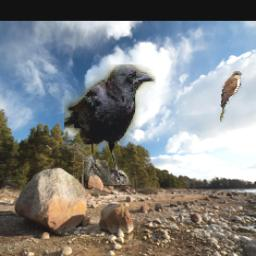Crow: (64, 65, 156, 186)
Cuckoo: (219, 71, 242, 122)
